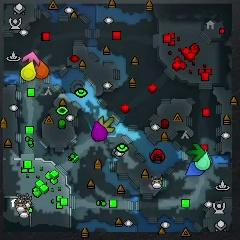p1: (185, 160, 204, 176)
p2: (195, 151, 210, 169)
p3: (90, 121, 107, 141)
p4: (21, 61, 36, 82)
p5: (35, 59, 49, 80)
x1: (23, 51, 40, 66)
x2: (99, 116, 115, 132)
x4: (187, 144, 205, 161)
